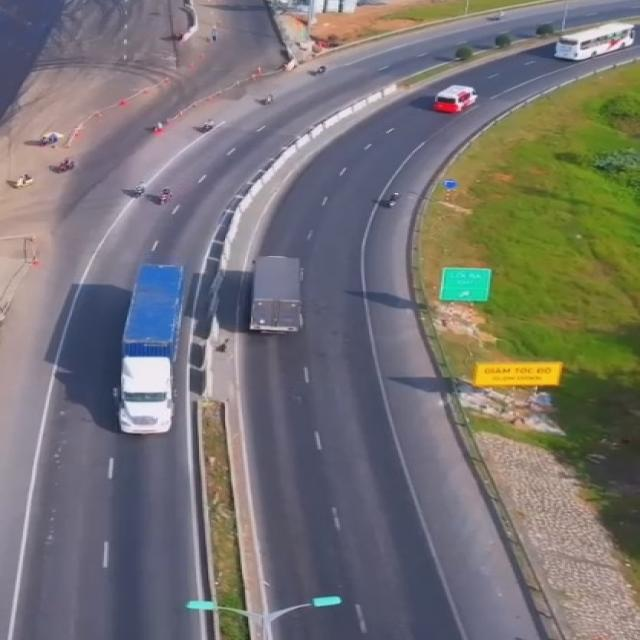bus: (552, 21, 638, 61), (429, 86, 475, 116)
truck: (118, 263, 182, 436), (250, 255, 309, 336)
